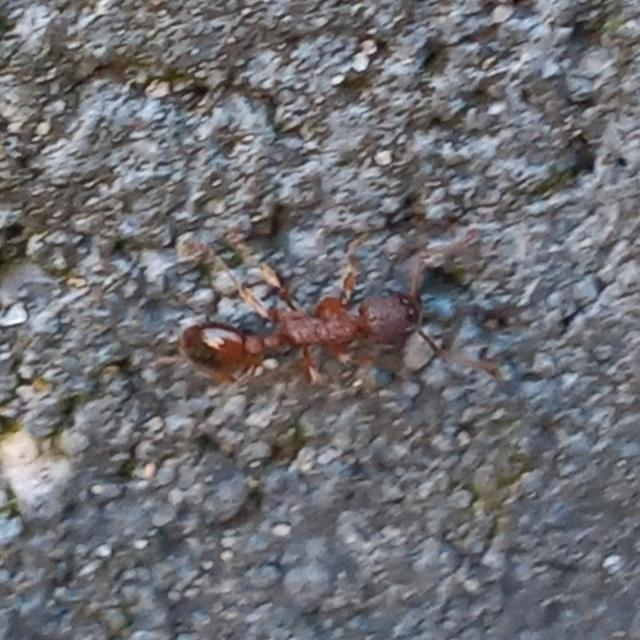Myrmica: (144, 230, 464, 404)
